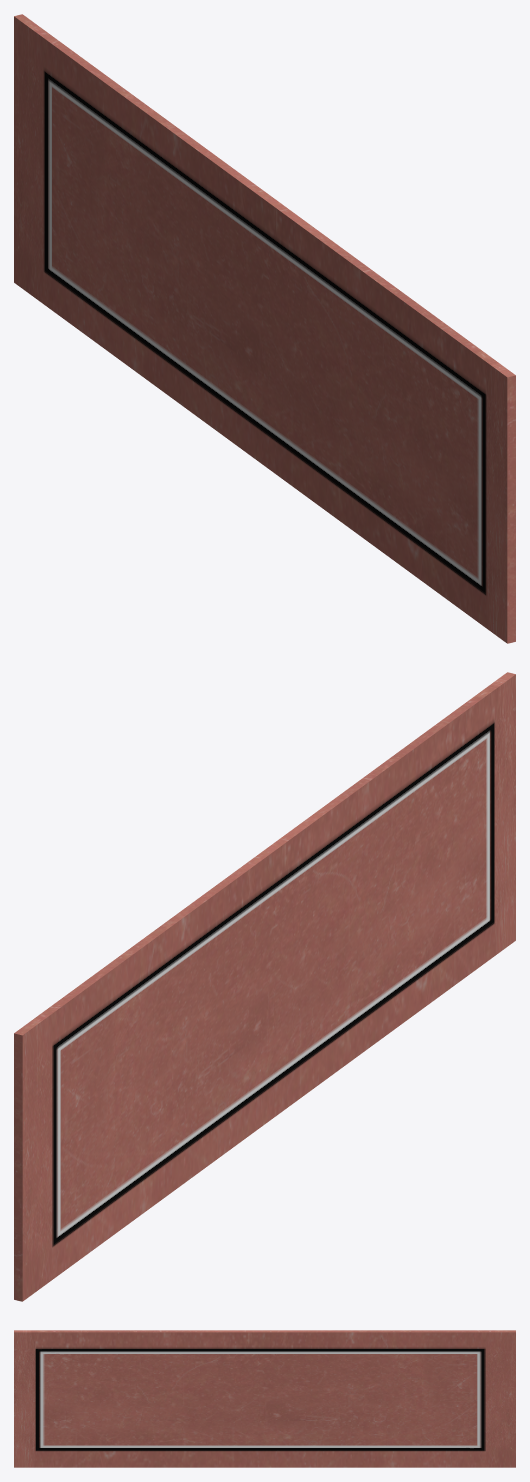
The model's file is SM_SJJ_HG_Wall02E.fbx.
3 views of the same model, one above another, from view 1: azimuth 30°, elevation 25°; view 2: azimuth 150°, elevation 25°; view 3: azimuth 270°, elevation 25° (orthographic). The views are drawn at different scales.
Parts seen in each view (by area): view 1: SM_SJJ_HG_Wall02E; view 2: SM_SJJ_HG_Wall02E; view 3: SM_SJJ_HG_Wall02E.
Part boxes in pixels (x1,y1,x2,y2): SM_SJJ_HG_Wall02E: (14, 14, 515, 643); SM_SJJ_HG_Wall02E: (14, 672, 515, 1301); SM_SJJ_HG_Wall02E: (14, 1330, 515, 1467).
Bounding box in the file's own units: 1.96 × 196 × 58.45.
1 material, 1 textured.
